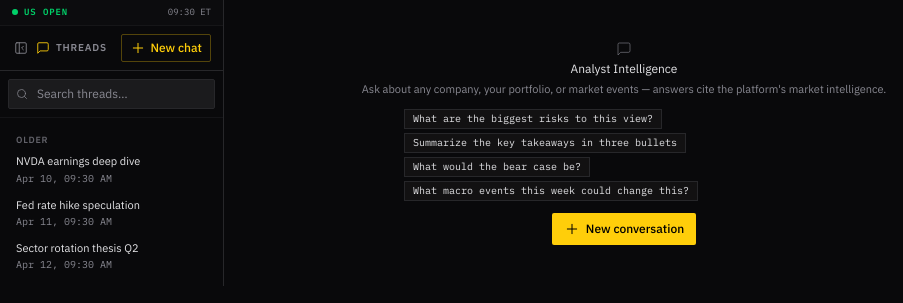
Test case: Chat thread search › filters by substring (waits past 200ms debounce window)
This screenshot has width=903, height=303.
Expected: the text "NVDA earnings deep dive" is shown, x1=16 y1=154 x2=140 y2=168
Type "fed" into the search field labelled "Search threads…" at (112, 94), box x1=8 y1=79 x2=215 y2=109
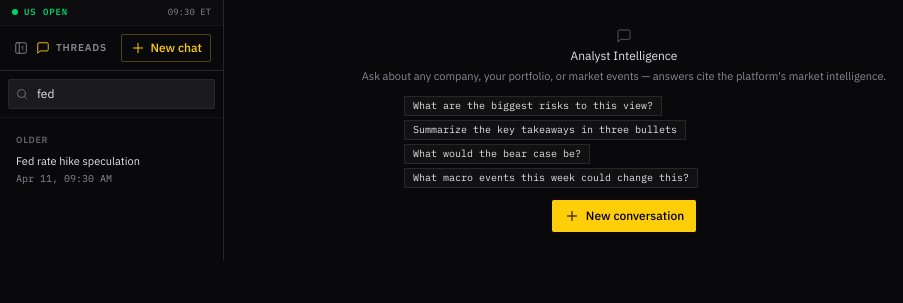
Expected: the text "Fed rate hike speculation" is shown, x1=16 y1=154 x2=140 y2=168
Now the button "NVDA earnings deep dive" is gone
Now the button "Sector rotation thesis Q2" is gone
